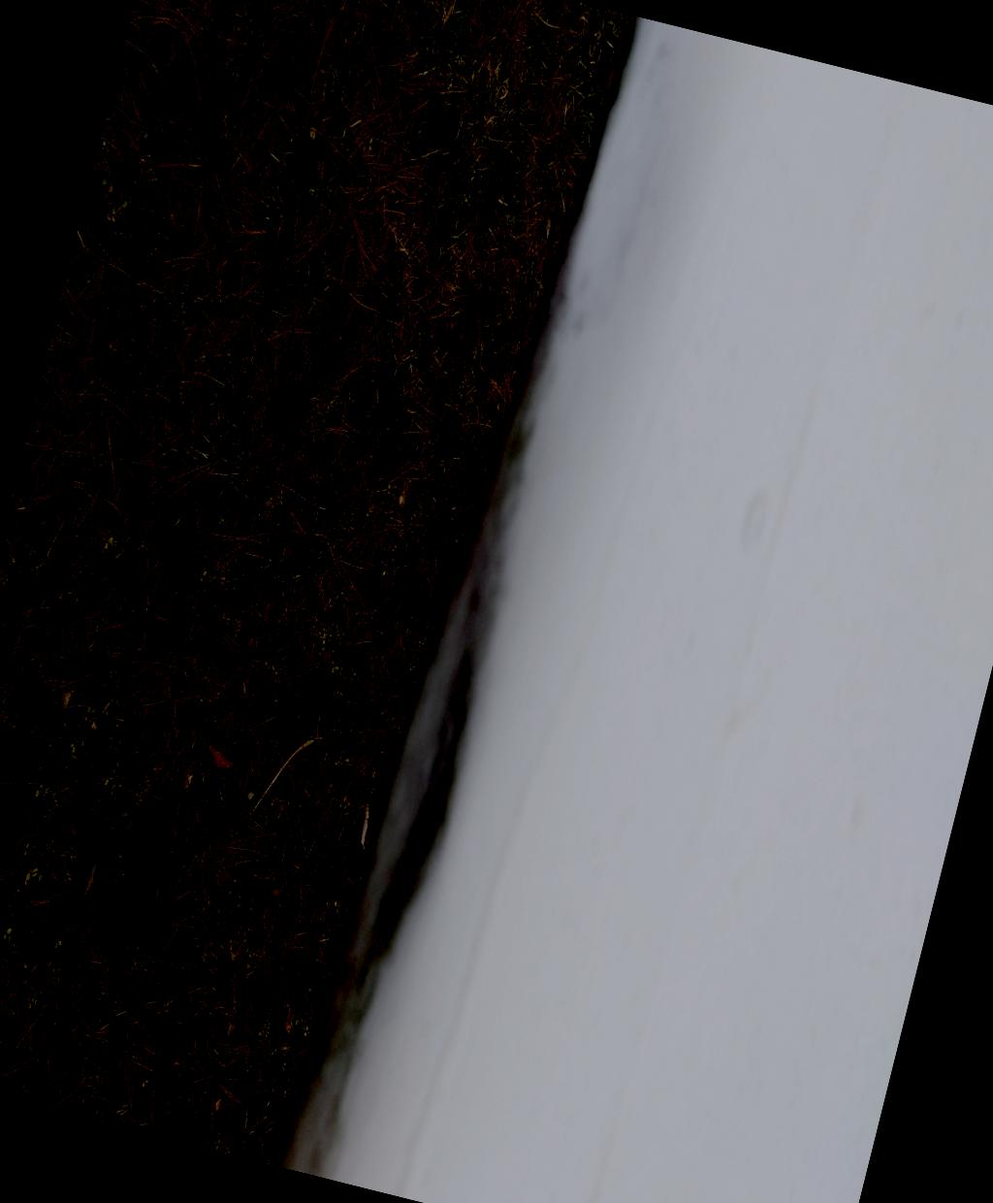dent: (538, 1031, 802, 1203)
